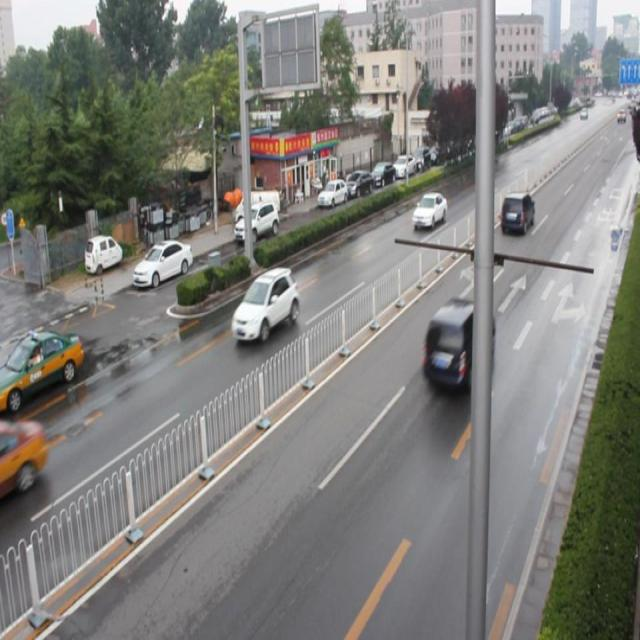car: (232, 269, 299, 346), (411, 190, 446, 233)
truck: (421, 295, 498, 395), (499, 193, 534, 231)
